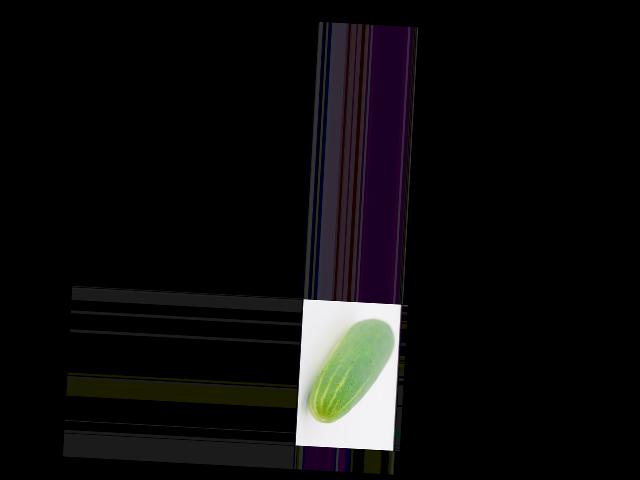cucumber: (307, 315, 395, 426)
